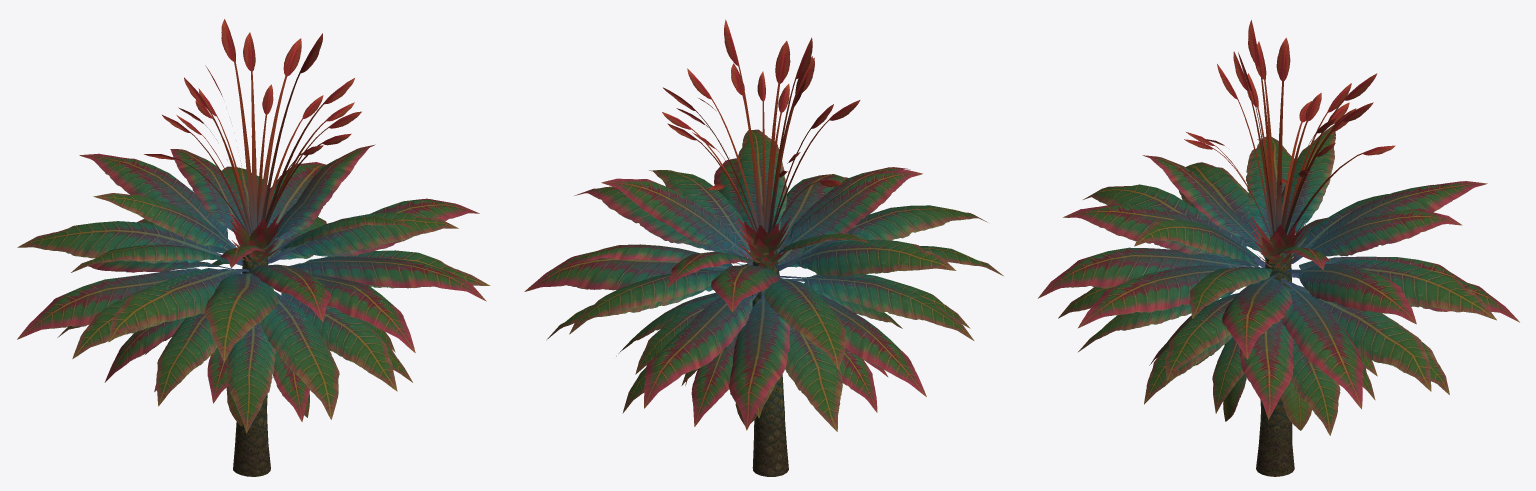
Rendered from Plant - Alien Plant 14-CAaVp5j_.glb.
The picture shows the model from 3 angles, left to right: view 1: azimuth 30°, elevation 25°; view 2: azimuth 150°, elevation 25°; view 3: azimuth 270°, elevation 25°; orthographic projection.
Parts seen in each view (by area): view 1: Plant14(Clone); view 2: Plant14(Clone); view 3: Plant14(Clone).
Part boxes in pixels (bbox=[...]): Plant14(Clone): bbox=[17, 19, 490, 476]; Plant14(Clone): bbox=[524, 19, 1003, 476]; Plant14(Clone): bbox=[1038, 20, 1519, 476].
Bounding box in the file's own units: 3.23 × 3.28 × 3.28.
2 materials, 2 textured.
